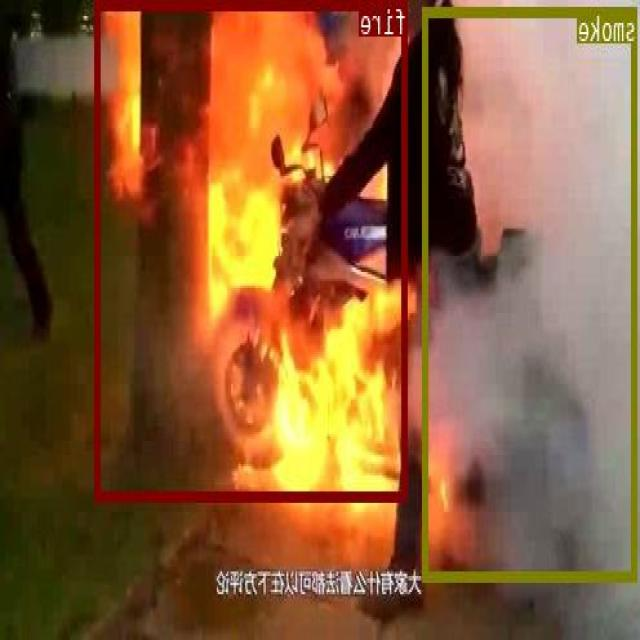fire: (96, 0, 409, 501)
smoke: (424, 5, 638, 579)
